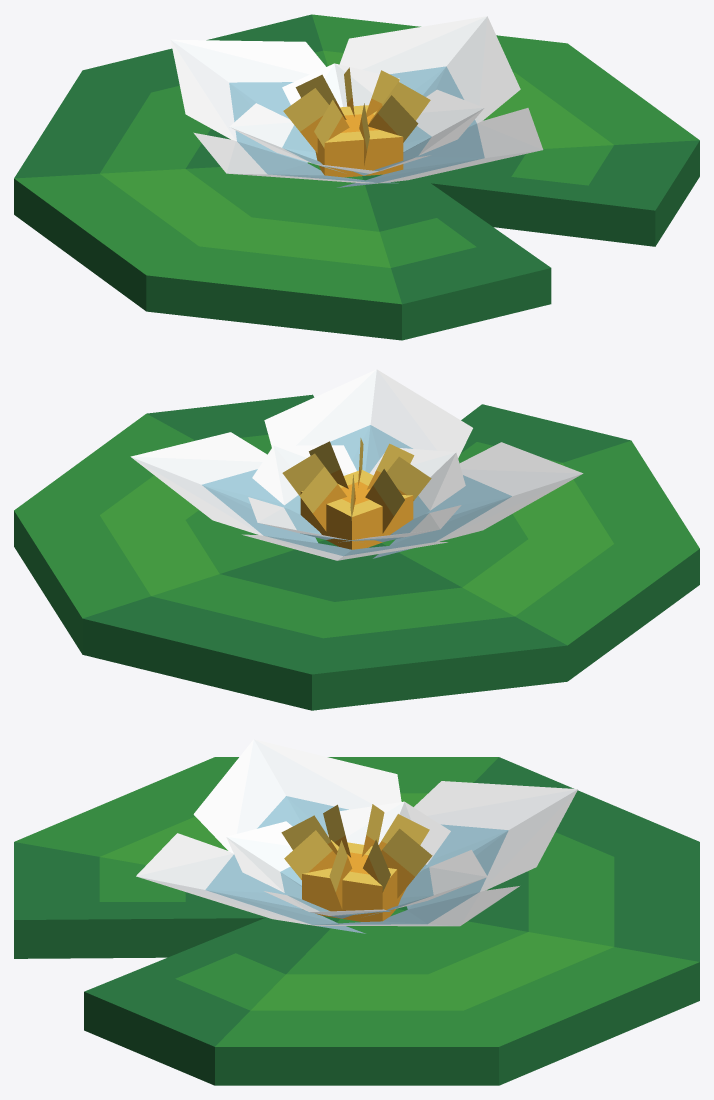
Rendered from waterLilypad1.fbx.
3 views of the same model, one above another, from view 1: azimuth 30°, elevation 25°; view 2: azimuth 150°, elevation 25°; view 3: azimuth 270°, elevation 25° (orthographic). The views are drawn at different scales.
Visible parts, largest first — view 1: circle, plane, plane_8, plane_12, lilypad, plane_4, plane_13, plane_9, plane_1, plane_2, plane_11, plane_6 (+3 smaller); view 2: circle, plane_12, plane, plane_4, lilypad, plane_13, plane_5, plane_8, plane_1, plane_14, plane_9, plane_2 (+4 smaller); view 3: circle, plane_4, plane_8, plane_12, lilypad, plane_5, plane, plane_1, plane_9, plane_14, plane_11, plane_10 (+6 smaller).
Part boxes in pixels (x1,y1,x2,y2): circle: [14, 14, 699, 340]; plane: [339, 16, 520, 127]; plane_8: [170, 39, 325, 162]; plane_12: [337, 108, 543, 187]; lilypad: [315, 105, 403, 177]; plane_4: [193, 132, 398, 183]; plane_13: [382, 89, 484, 170]; plane_9: [229, 103, 343, 172]; plane_1: [282, 63, 399, 107]; plane_2: [283, 88, 329, 153]; plane_11: [368, 95, 418, 142]; plane_6: [369, 81, 430, 122]; circle: [14, 394, 699, 710]; plane_12: [264, 369, 472, 473]; plane: [130, 432, 317, 542]; plane_4: [373, 442, 583, 558]; lilypad: [300, 470, 413, 549]; plane_13: [252, 445, 356, 514]; plane_5: [369, 448, 465, 518]; plane_8: [242, 534, 447, 560]; plane_1: [248, 497, 358, 541]; plane_14: [300, 466, 346, 531]; plane_9: [338, 505, 461, 542]; plane_2: [365, 469, 404, 533]; circle: [14, 757, 699, 1085]; plane_4: [193, 739, 401, 853]; plane_8: [406, 781, 577, 909]; plane_12: [136, 833, 365, 933]; lilypad: [302, 840, 406, 921]; plane_5: [226, 821, 301, 899]; plane: [301, 886, 519, 926]; plane_1: [365, 850, 487, 916]; plane_9: [327, 801, 450, 872]; plane_14: [381, 828, 432, 898]; plane_11: [284, 830, 336, 879]; plane_10: [281, 815, 337, 854].
Bounding box in the file's own units: 100 × 19.13 × 100.
1 material, 1 textured.
